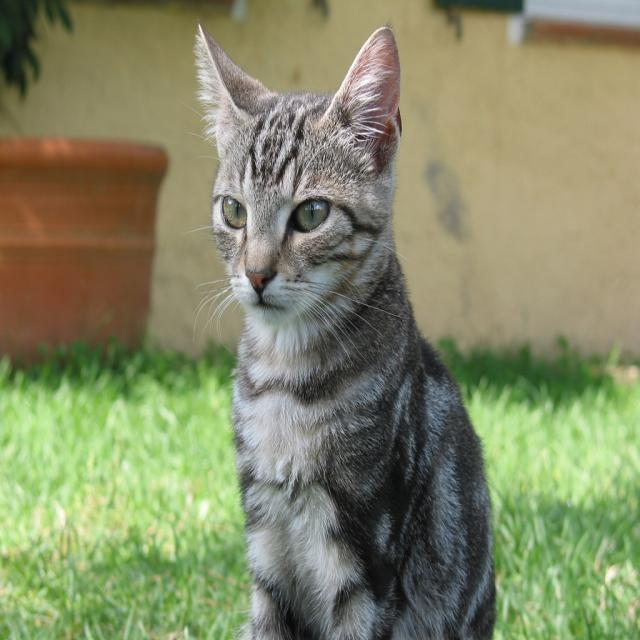Cat: (173, 15, 493, 638)
